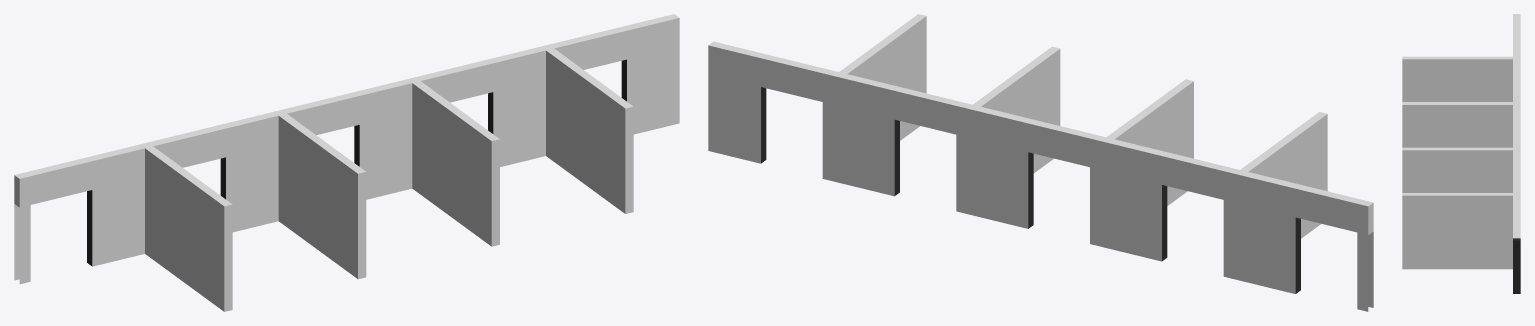
File: Quarters_01_Fill.fbx
The picture shows the model from 3 angles, left to right: view 1: azimuth 30°, elevation 25°; view 2: azimuth 150°, elevation 25°; view 3: azimuth 270°, elevation 25°; orthographic projection. The views are drawn at different scales.
Parts seen in each view (by area): view 1: Quarters_01_Fill; view 2: Quarters_01_Fill; view 3: Quarters_01_Fill.
Part boxes in pixels (left/top/right/bottom): Quarters_01_Fill: left=14, top=14, right=679, bottom=311; Quarters_01_Fill: left=708, top=14, right=1373, bottom=311; Quarters_01_Fill: left=1402, top=14, right=1520, bottom=293.
Bounding box in the file's own units: 7200 × 1100 × 1600.
